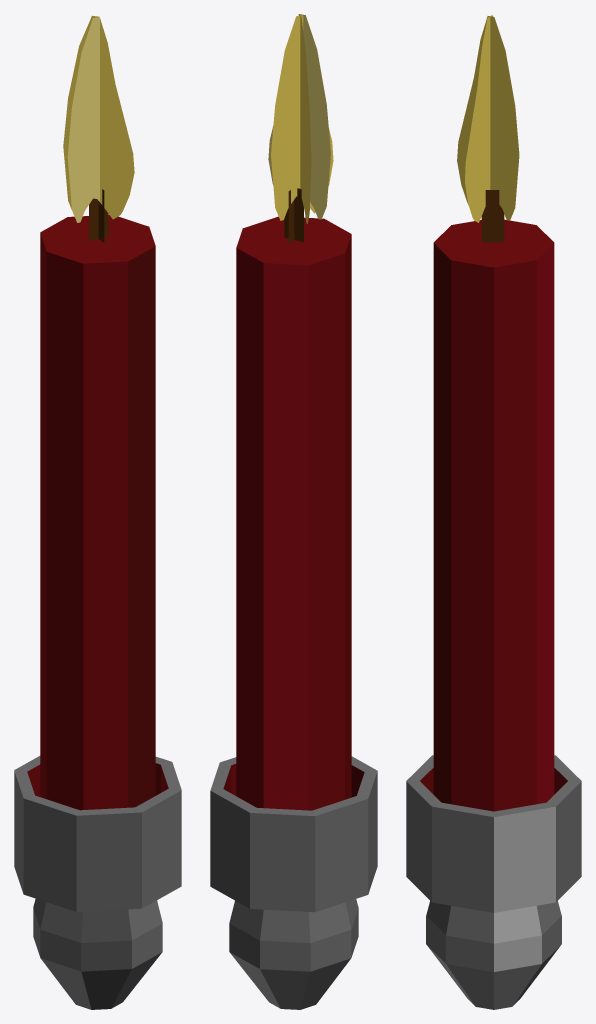
Rendered from candle_338x09.gltf.
The picture shows the model from 3 angles, left to right: view 1: azimuth 30°, elevation 25°; view 2: azimuth 150°, elevation 25°; view 3: azimuth 270°, elevation 25°; orthographic projection.
Parts seen in each view (by area): view 1: candle_338x09; view 2: candle_338x09; view 3: candle_338x09.
Part boxes in pixels (box(x1,y1,x2,y2)): candle_338x09: box(14, 15, 181, 1009); candle_338x09: box(210, 14, 377, 1009); candle_338x09: box(406, 15, 581, 1009).
Size of the model in its own units: 0.2129 by 1.35 by 0.2184.
1 material, 1 textured.
